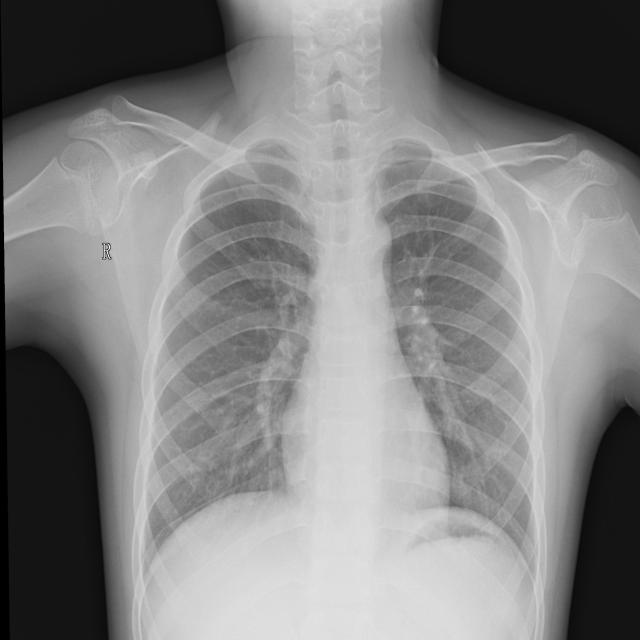no-pneumonia: (140, 141, 318, 578), (381, 142, 534, 548)
